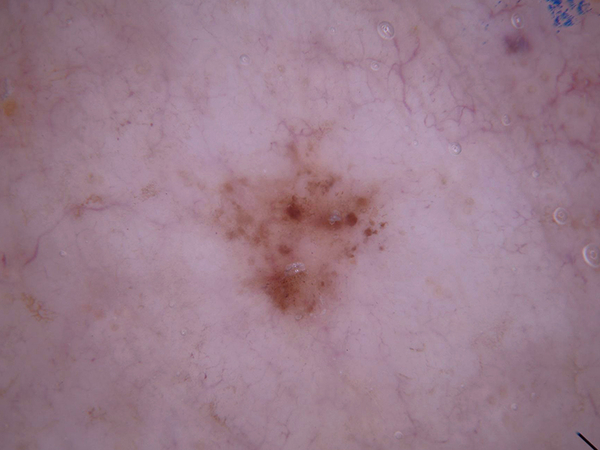Detected Lesion: (207, 126, 400, 323)
